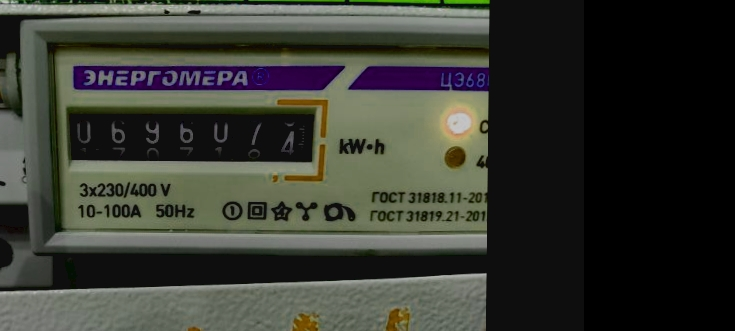0: (74, 115, 94, 144), (210, 115, 230, 142)
4: (278, 128, 297, 156)
6: (177, 115, 196, 143), (108, 116, 127, 143)
7: (245, 116, 265, 146)
9: (142, 117, 161, 145)
screen: (53, 92, 333, 182)
